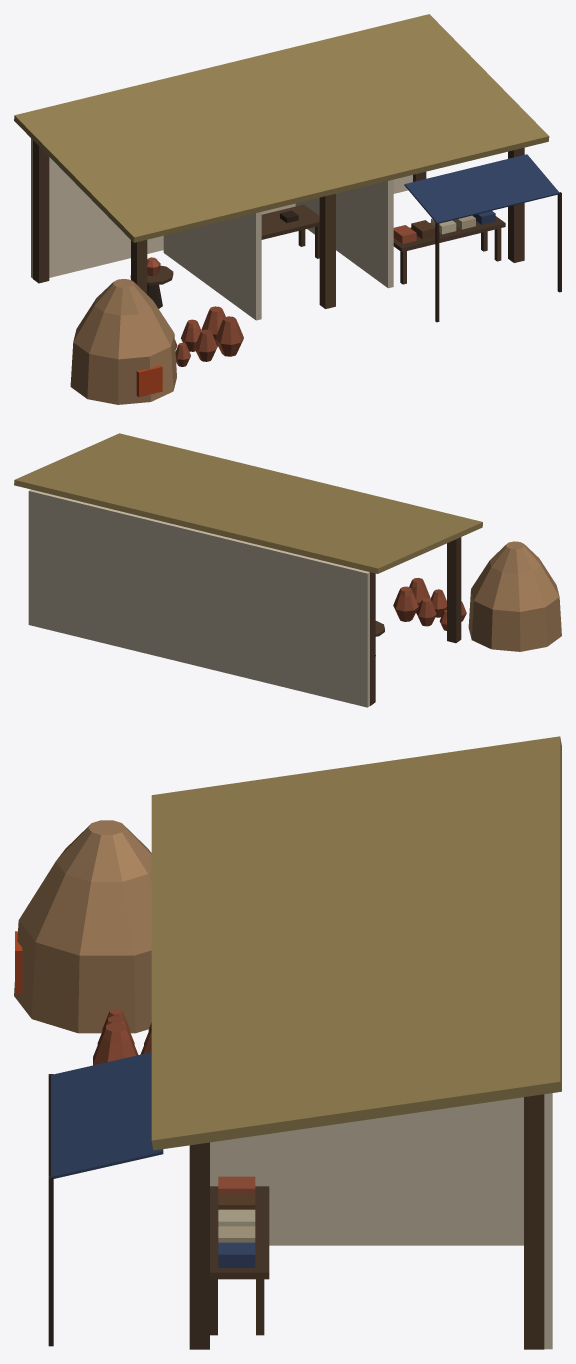
File: walk_sunborn_artisan.glb
The picture shows the model from 3 angles, top to bottom: view 1: azimuth 30°, elevation 25°; view 2: azimuth 150°, elevation 25°; view 3: azimuth 270°, elevation 25°; orthographic projection. The views are drawn at different scales.
Visible parts, largest first — view 1: walk_sunborn_artisan_roof, walk_sunborn_artisan; view 2: walk_sunborn_artisan, walk_sunborn_artisan_roof; view 3: walk_sunborn_artisan_roof, walk_sunborn_artisan.
Boxes of the visible parts, x1,y1,x2,y2 form: walk_sunborn_artisan_roof: [14, 14, 549, 242]; walk_sunborn_artisan: [31, 138, 561, 404]; walk_sunborn_artisan: [28, 489, 561, 707]; walk_sunborn_artisan_roof: [14, 433, 482, 573]; walk_sunborn_artisan_roof: [151, 736, 561, 1150]; walk_sunborn_artisan: [14, 820, 552, 1349].
Size of what is drawn, in the model's own units: 10.25 by 3.32 by 5.9.
Materials: 2 (2 with a texture image).
